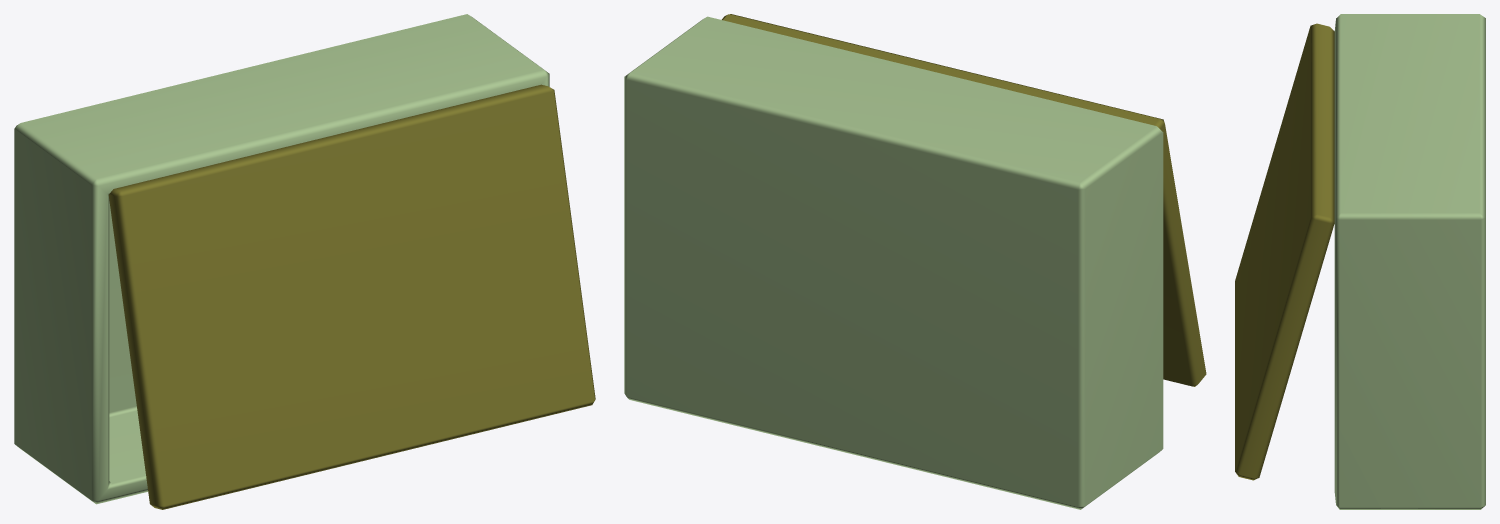
The model's file is Kitchen_Cabinet_5.glb.
3 views of the same model, side by side, from view 1: azimuth 30°, elevation 25°; view 2: azimuth 150°, elevation 25°; view 3: azimuth 270°, elevation 25° (orthographic). The views are drawn at different scales.
Visible parts, largest first — view 1: Kitchen_Cabinet_5; view 2: Kitchen_Cabinet_5; view 3: Kitchen_Cabinet_5.
Part boxes in pixels (left/top/right/bottom): Kitchen_Cabinet_5: left=14, top=14, right=595, bottom=509; Kitchen_Cabinet_5: left=624, top=14, right=1206, bottom=509; Kitchen_Cabinet_5: left=1235, top=14, right=1485, bottom=509.
Bounding box in the file's own units: 1.06 × 0.7186 × 0.5503.
1 material, 1 textured.
